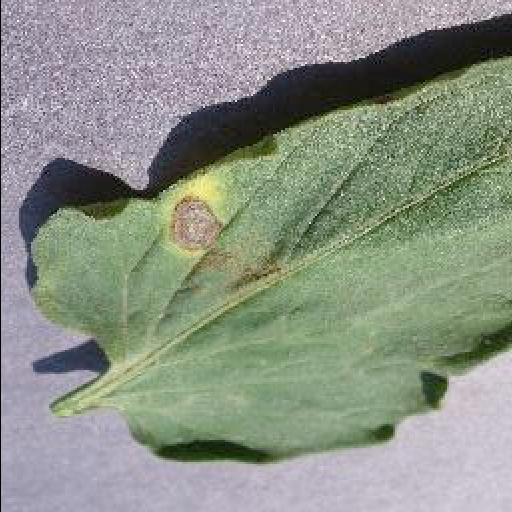disease_tomato: (24, 55, 512, 463)
